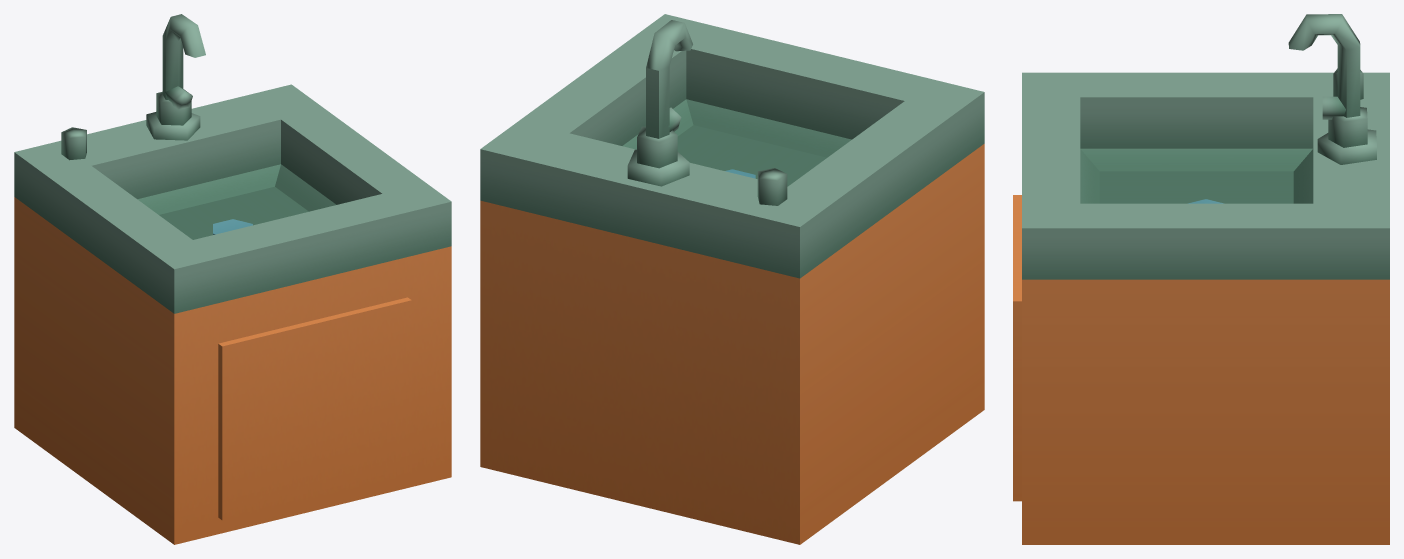
Rendered from Prop_Sink.fbx.
3 renders of one model, left to right at view 1: azimuth 30°, elevation 25°; view 2: azimuth 150°, elevation 25°; view 3: azimuth 270°, elevation 25°, orthographic. The views are drawn at different scales.
Parts seen in each view (by area): view 1: Prop_Faucet; view 2: Prop_Faucet; view 3: Prop_Faucet.
Boxes of the visible parts, x1,y1,x2,y2 form: Prop_Faucet: [14, 14, 451, 544]; Prop_Faucet: [480, 14, 984, 544]; Prop_Faucet: [1013, 14, 1389, 544].
Bounding box in the file's own units: 200 × 271 × 205.
